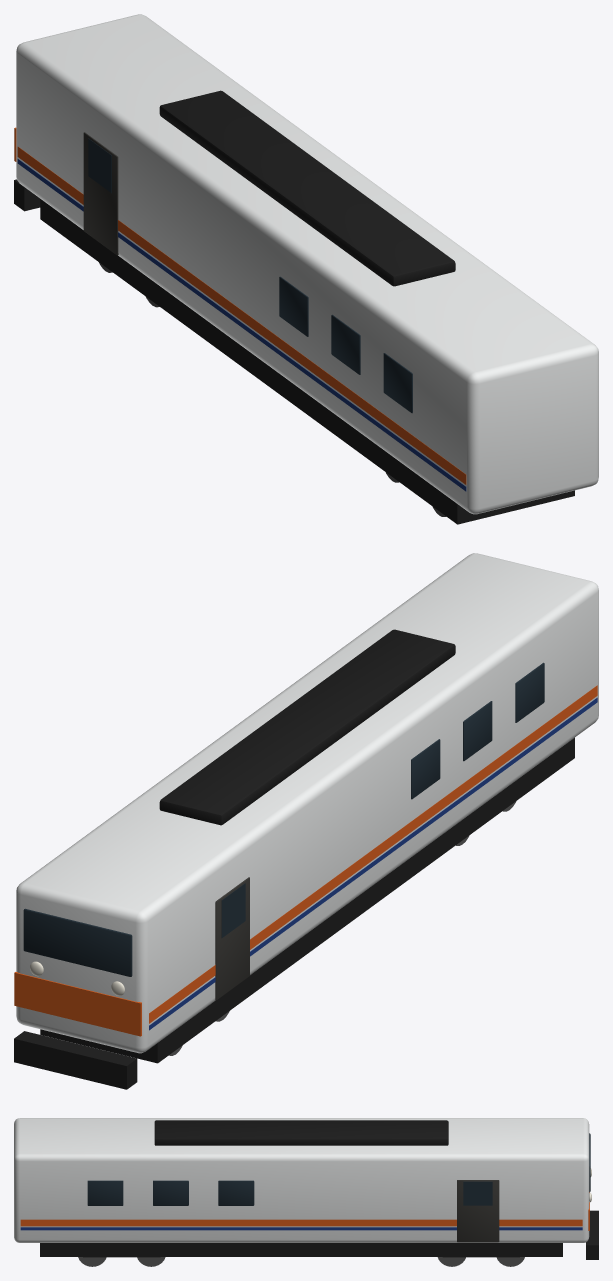
Rendered from Train_Loco.fbx.
3 views of the same model, one above another, from view 1: azimuth 30°, elevation 25°; view 2: azimuth 150°, elevation 25°; view 3: azimuth 270°, elevation 25° (orthographic). The views are drawn at different scales.
Visible parts, largest first — view 1: Train_Loco_Mesh; view 2: Train_Loco_Mesh; view 3: Train_Loco_Mesh.
Boxes of the visible parts, x1=… form: Train_Loco_Mesh: x1=14, y1=14, x2=598, y2=524; Train_Loco_Mesh: x1=14, y1=553, x2=598, y2=1089; Train_Loco_Mesh: x1=14, y1=1118, x2=598, y2=1266.
Size of the model in its own units: 2.97 by 4.28 by 17.9.
